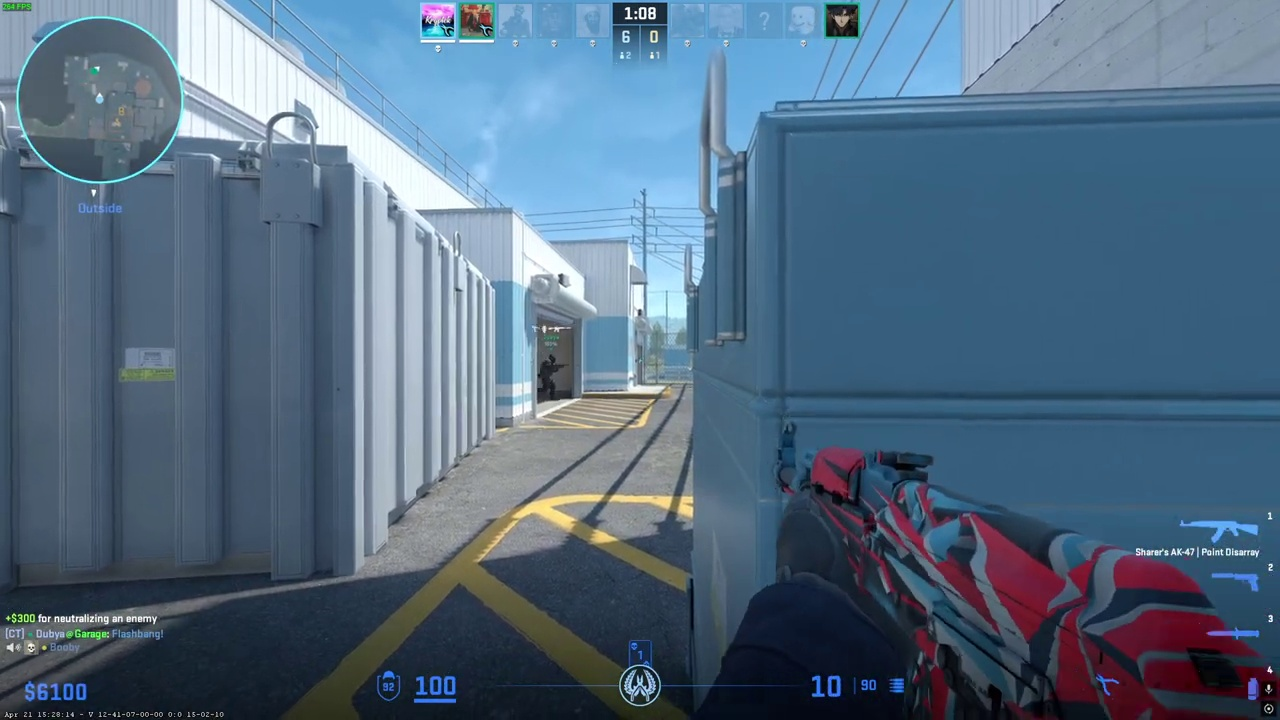CT: (537, 355, 561, 400)
